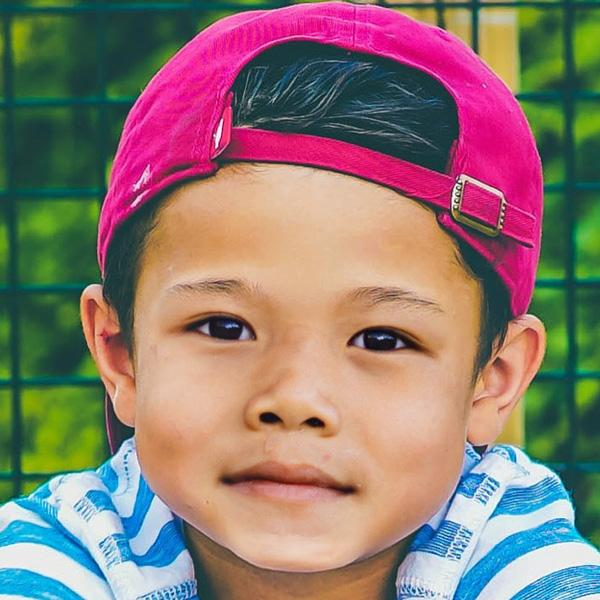Eyes: (341, 308, 441, 370), (172, 296, 264, 352)
